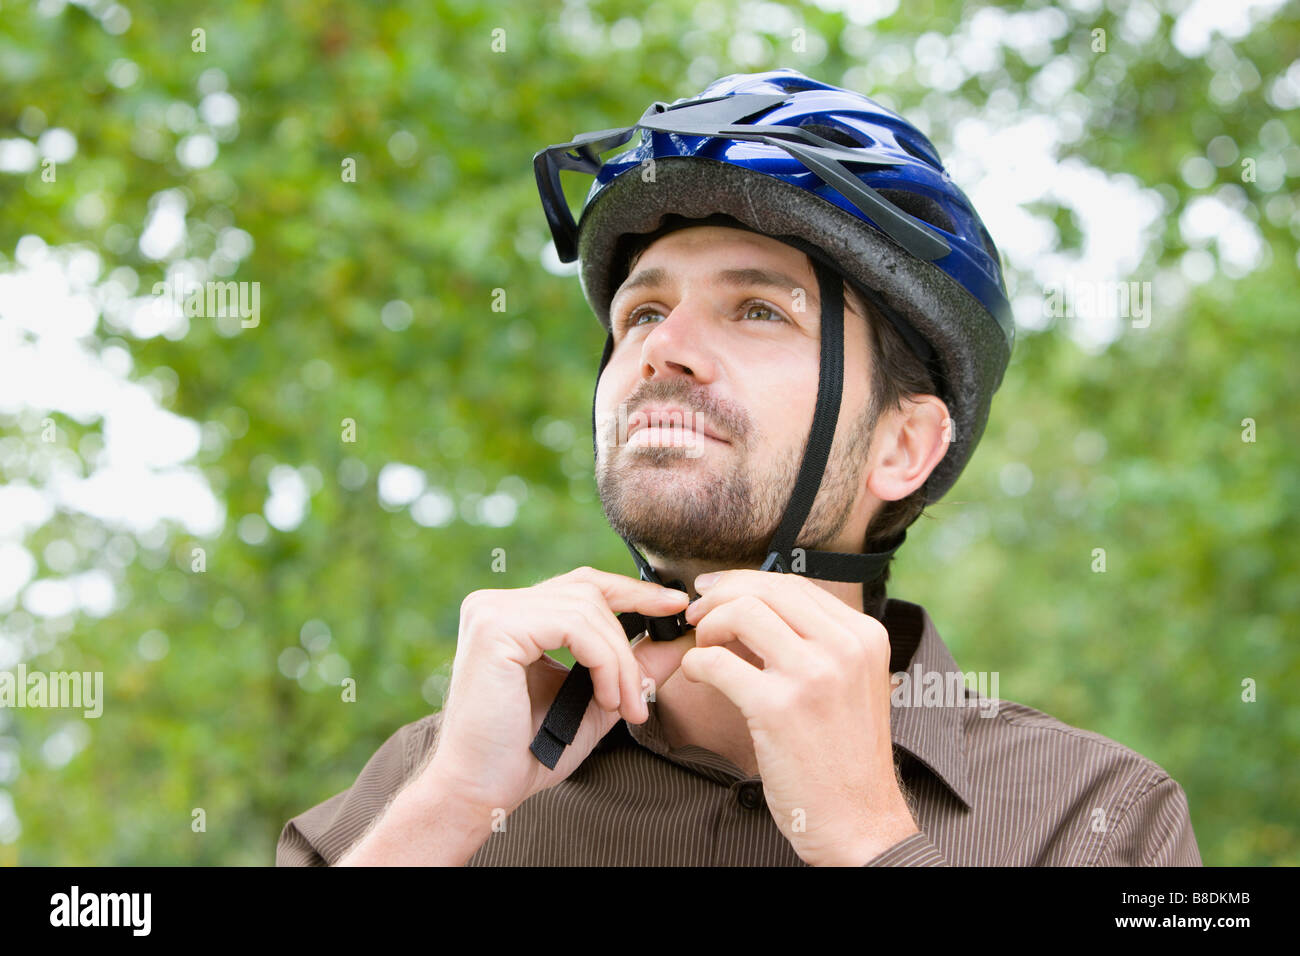helmet: (529, 66, 1015, 560)
